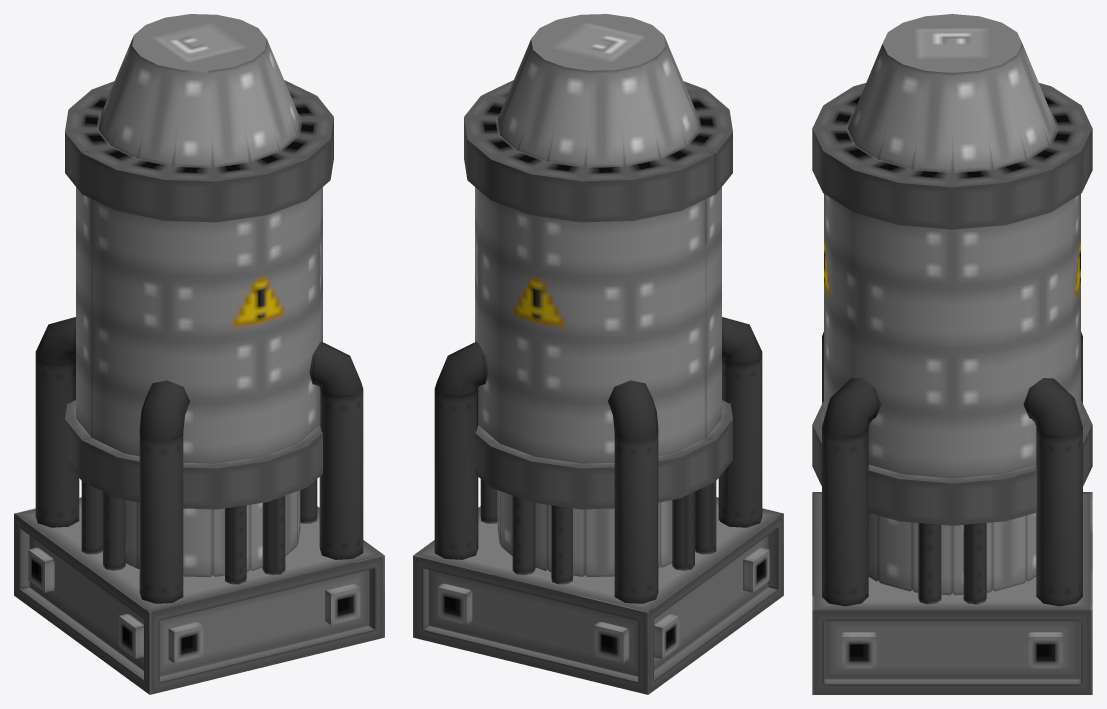
Rendered from hydrotreater.obj.
The picture shows the model from 3 angles, left to right: view 1: azimuth 30°, elevation 25°; view 2: azimuth 150°, elevation 25°; view 3: azimuth 270°, elevation 25°; orthographic projection. The views are drawn at different scales.
Parts seen in each view (by area): view 1: Plane; view 2: Plane; view 3: Plane.
Part boxes in pixels (x1,y1,x2,y2): Plane: (14, 14, 384, 694); Plane: (413, 14, 783, 694); Plane: (812, 14, 1092, 694).
Bounding box in the file's own units: 3 × 7 × 3.
